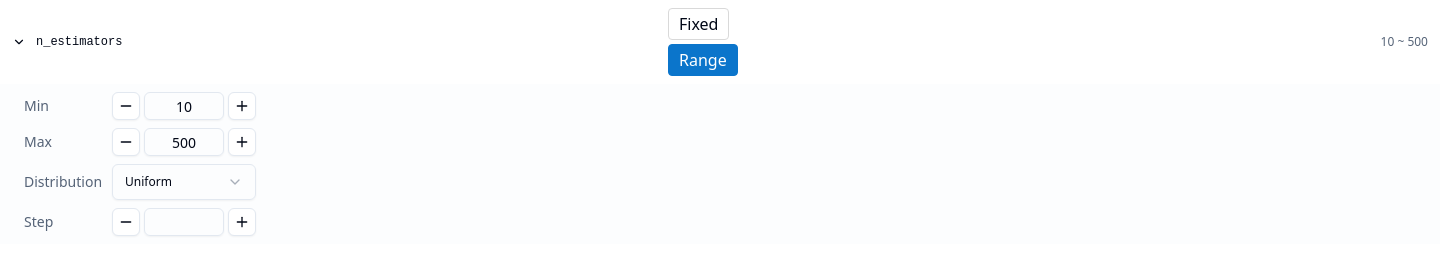
Test: SearchSpaceRow – range mode expanded › Range Min for integer paramType rejects decimals and shows inline warning
The image size is (1440, 269).
Replace the text in the field named "n_estimators min" with "10.5" at [184, 106], box [144,92,224,120]
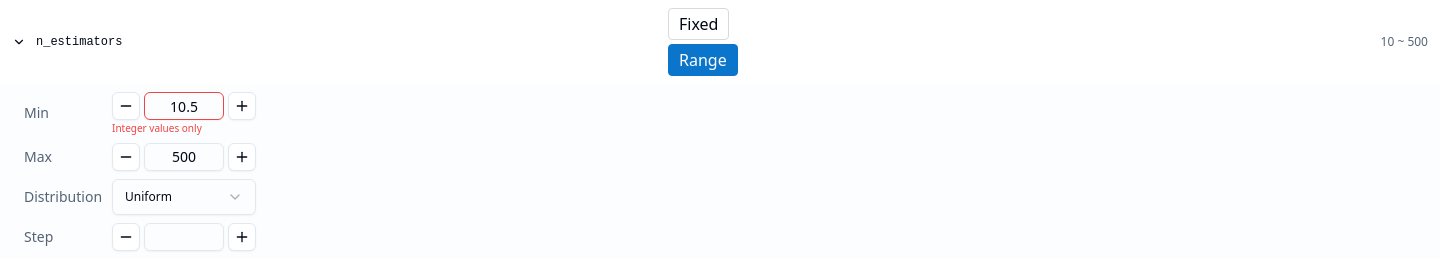
Result: the message reads "Integer values only" at [112,121,202,135]
